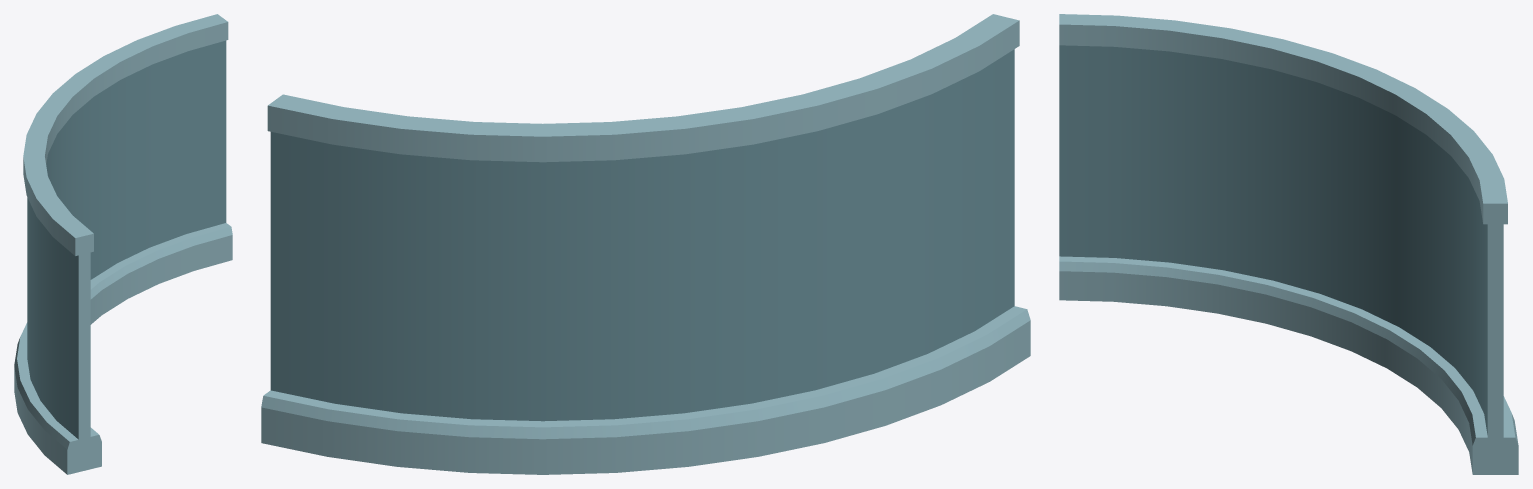
The model's file is stoneWallCurve.fbx.
3 renders of one model, left to right at view 1: azimuth 30°, elevation 25°; view 2: azimuth 150°, elevation 25°; view 3: azimuth 270°, elevation 25°, orthographic. The views are drawn at different scales.
Visible parts, largest first — view 1: stoneWallCurve; view 2: stoneWallCurve; view 3: stoneWallCurve.
Part boxes in pixels (x1,y1,x2,y2): stoneWallCurve: [14, 14, 232, 474]; stoneWallCurve: [261, 14, 1030, 474]; stoneWallCurve: [1059, 14, 1518, 474].
Size of the model in its own units: 10 by 6.52 by 10.
